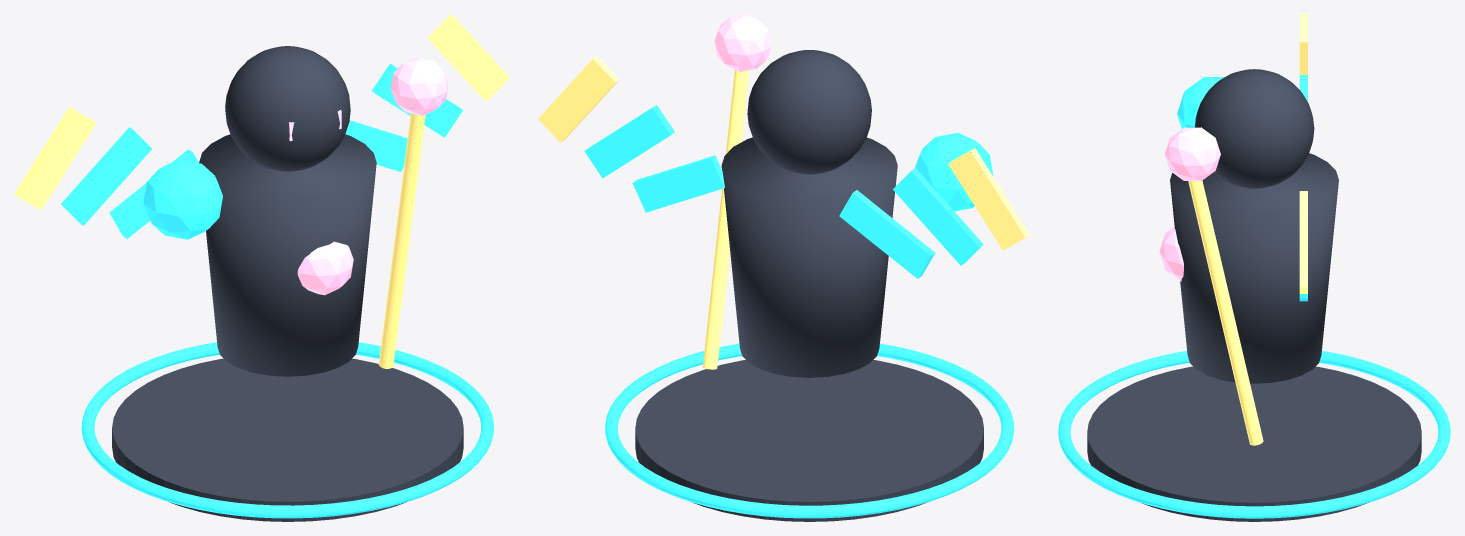
The picture shows the model from 3 angles, left to right: view 1: azimuth 30°, elevation 25°; view 2: azimuth 150°, elevation 25°; view 3: azimuth 270°, elevation 25°; orthographic projection. The views are drawn at different scales.
Visible parts, largest first — view 1: AbilityPedestal, AgentTorso, AgentHead, AbilityAuraRing, Pet_DRACO, SignatureWeapon, Wing_-1_2, Wing_-1_1, Wing_1_2, WeaponApex, AgentCore, Wing_1_0 (+2 smaller); view 2: AbilityPedestal, AgentTorso, AgentHead, AbilityAuraRing, SignatureWeapon, Wing_-1_0, Wing_-1_1, Wing_-1_2, Wing_1_0, Wing_1_2, Wing_1_1, Pet_DRACO (+1 smaller); view 3: AbilityPedestal, AgentTorso, AgentHead, AbilityAuraRing, SignatureWeapon, WeaponApex, Pet_DRACO, Wing_1_2, AgentCore, Wing_-1_2.
Boxes of the visible parts, box(x1,y1,x2,y2) form: AbilityPedestal: box(112, 358, 463, 521); AgentTorso: box(199, 134, 376, 376); AgentHead: box(225, 46, 350, 171); AbilityAuraRing: box(81, 342, 493, 518); Pet_DRACO: box(143, 159, 222, 239); SignatureWeapon: box(378, 113, 425, 368); Wing_-1_2: box(14, 107, 96, 210); Wing_-1_1: box(61, 127, 151, 225); Wing_1_2: box(428, 14, 509, 101); WeaponApex: box(390, 57, 448, 115); AgentCore: box(297, 241, 353, 295); Wing_1_0: box(345, 120, 407, 171); AbilityPedestal: box(635, 360, 983, 521); AgentTorso: box(721, 137, 897, 377); AgentHead: box(747, 50, 871, 174); AbilityAuraRing: box(605, 343, 1014, 518); SignatureWeapon: box(702, 70, 749, 369); Wing_-1_0: box(839, 190, 935, 278); Wing_-1_1: box(893, 168, 983, 265); Wing_-1_2: box(948, 148, 1029, 250); Wing_1_0: box(632, 155, 724, 212); Wing_1_2: box(538, 56, 619, 142); Wing_1_1: box(584, 105, 674, 178); Pet_DRACO: box(915, 132, 993, 211); AbilityPedestal: box(1087, 366, 1421, 521); AgentTorso: box(1170, 153, 1338, 383); AgentHead: box(1194, 69, 1314, 188); AbilityAuraRing: box(1058, 351, 1450, 518); SignatureWeapon: box(1188, 180, 1263, 445); WeaponApex: box(1164, 127, 1220, 180); Pet_DRACO: box(1177, 77, 1224, 128); Wing_1_2: box(1299, 191, 1307, 293); AgentCore: box(1159, 227, 1183, 281); Wing_-1_2: box(1299, 14, 1307, 74).
Bounding box in the file's own units: 3.07 × 2.36 × 2.23.
